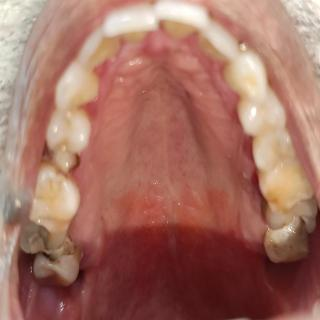UL1BC_healthy: (237, 90, 286, 135)
UL1M_mdecay: (258, 163, 313, 214)
UL2BC_healthy: (252, 131, 294, 171)
UL2M_sdecay: (263, 201, 317, 234)
UL3M_mdecay: (264, 227, 311, 263)
ULCI_healthy: (159, 1, 209, 38)
ULC_healthy: (224, 50, 269, 100)
ULLI_healthy: (200, 20, 240, 62)
UR1BC_healthy: (46, 111, 89, 150)
UR1M_healthy: (27, 166, 79, 221)
UR2BC_sdecay: (41, 150, 80, 175)
UR2M_sdecay: (19, 221, 64, 257)
UR3M_sdecay: (33, 235, 83, 287)
URCI_healthy: (103, 4, 160, 41)
URC_healthy: (55, 62, 100, 110)
URLI_healthy: (80, 27, 121, 68)
